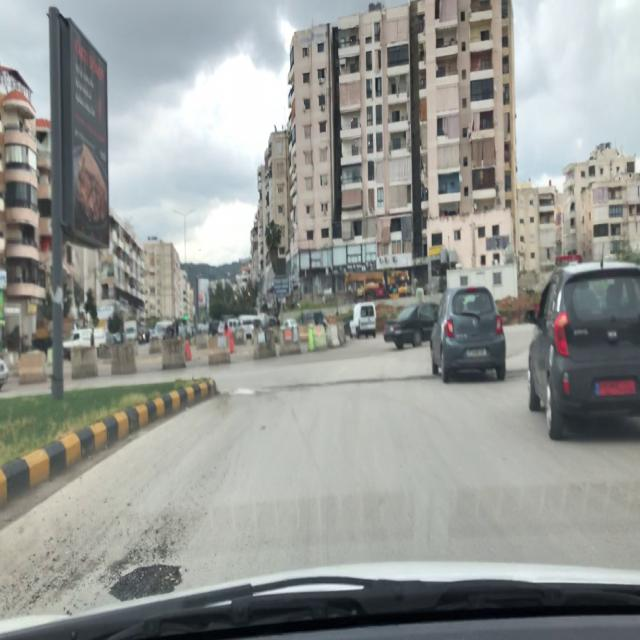Pothole: (107, 561, 192, 602)
